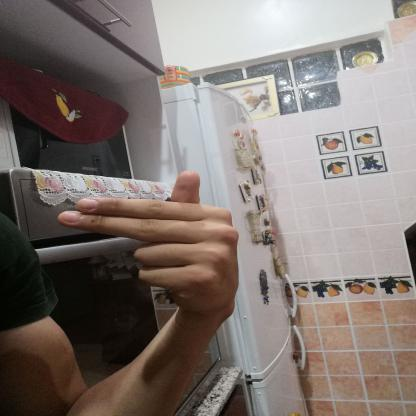GHAYN: (46, 162, 253, 324)
